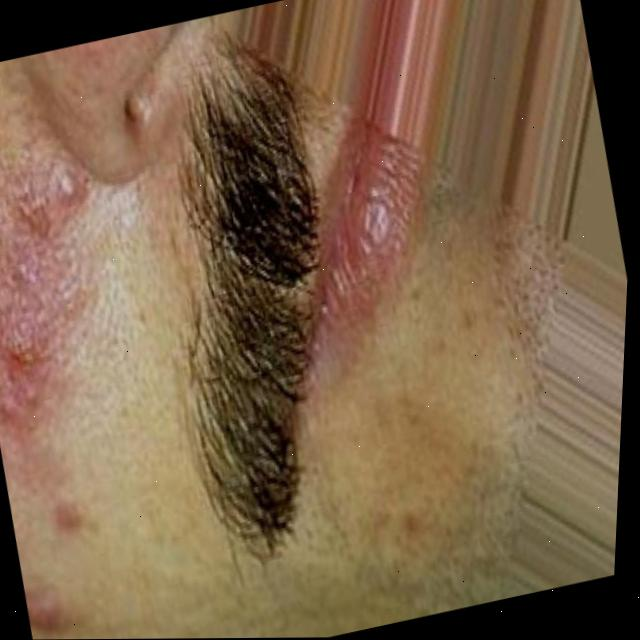Rosacea: (0, 187, 184, 640)
